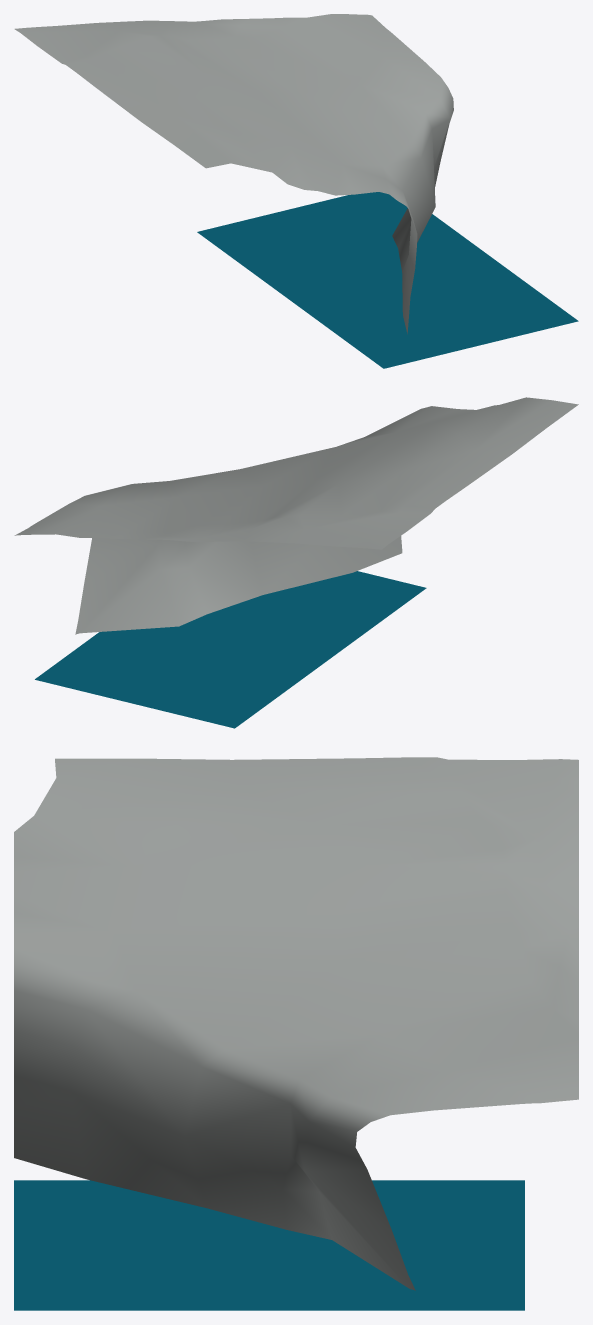
The picture shows the model from 3 angles, top to bottom: view 1: azimuth 30°, elevation 25°; view 2: azimuth 150°, elevation 25°; view 3: azimuth 270°, elevation 25°; orthographic projection. The views are drawn at different scales.
Visible parts, largest first — view 1: G:\FFXIV-MapTools\exports\s1f3\bg\ffxiv\sea_s1\fld\s1f3\bgpl (×5); view 2: G:\FFXIV-MapTools\exports\s1f3\bg\ffxiv\sea_s1\fld\s1f3\bgpl (×4); view 3: G:\FFXIV-MapTools\exports\s1f3\bg\ffxiv\sea_s1\fld\s1f3\bgpl (×5).
Part boxes in pixels (x1,y1,x2,y2): G:\FFXIV-MapTools\exports\s1f3\bg\ffxiv\sea_s1\fld\s1f3\bgpl (×5): (14,14,578,368); G:\FFXIV-MapTools\exports\s1f3\bg\ffxiv\sea_s1\fld\s1f3\bgpl (×4): (14,397,578,728); G:\FFXIV-MapTools\exports\s1f3\bg\ffxiv\sea_s1\fld\s1f3\bgpl (×5): (14,757,578,1310).
Size of the model in its own units: 128 by 78.61 by 128.
